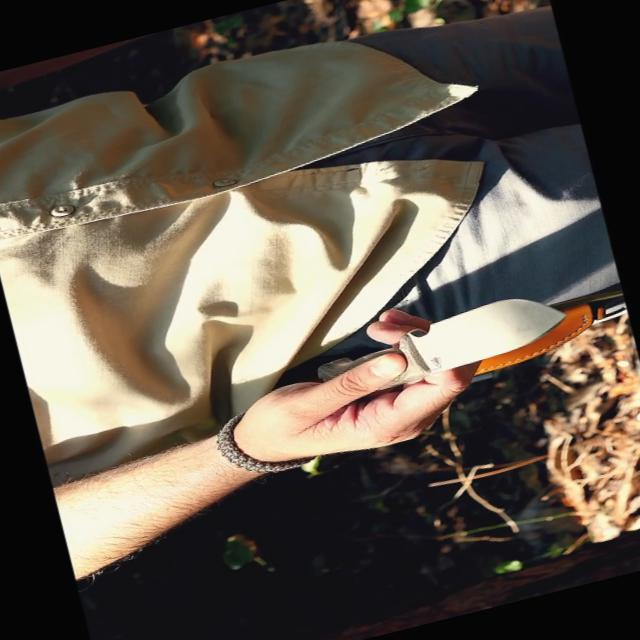knife: (290, 262, 590, 463)
